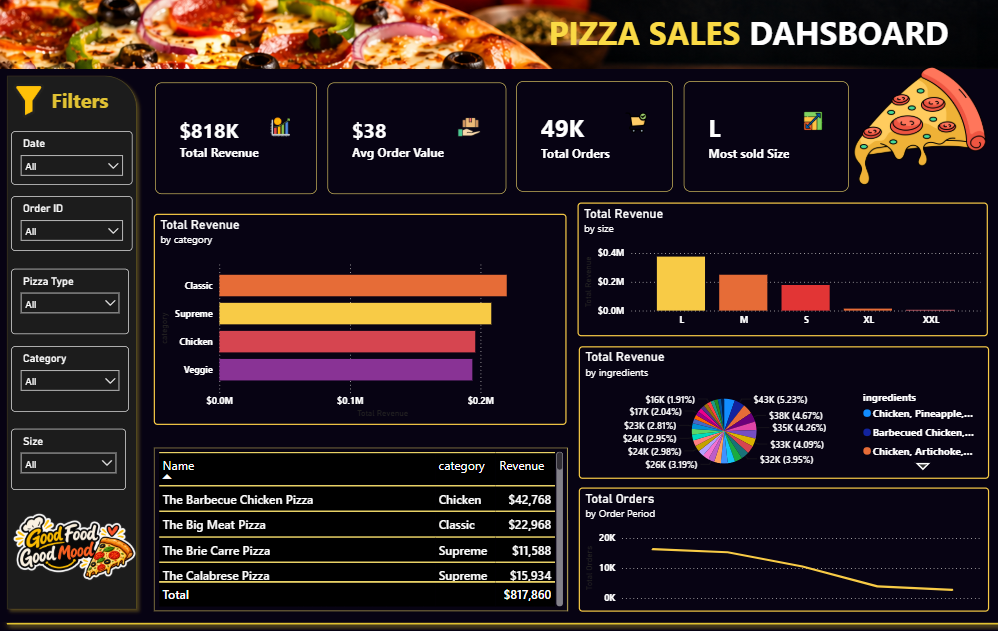

The page's visual inventory and layout, read from the dashboard file:
{"tool":"powerbi","page":{"name":"Page 1","canvas":[1330,850],"ordinal":0},"visuals":[{"type":"image","box":[0,0,1450,92],"z":0},{"type":"textbox","box":[726,8,564,74.4],"z":1000},{"type":"shape","box":[0,91.4,191.4,730],"z":2000},{"type":"image","box":[0,108.6,77.1,52.9],"z":3000},{"type":"textbox","box":[62.9,110,108.6,52.9],"z":4000},{"type":"slicer","fields":{"Values":["orders.date"]},"box":[14.3,174.3,161.4,71.4],"z":5000},{"type":"slicer","fields":{"Values":["order_details.order_id"]},"box":[14.3,261.4,161.4,72.9],"z":6000},{"type":"slicer","fields":{"Values":["pizzas.pizza_id"]},"box":[14.3,358.6,157.1,87.1],"z":7000},{"type":"slicer","fields":{"Values":["pizza_types.category"]},"box":[14.3,461.4,157.1,87.1],"z":8000},{"type":"slicer","fields":{"Values":["pizzas.size"]},"box":[14.3,571.4,152.9,81.4],"z":9000},{"type":"image","box":[0,624.3,191.4,205.7],"z":10000},{"type":"shape","box":[0,821.4,1418,18],"z":11000},{"type":"cardVisual","fields":{"Data":["order_details.Total Revenue"]},"box":[207.1,110,215.7,148.6],"z":12000},{"type":"clusteredBarChart","fields":{"Category":["pizza_types.category"],"Y":["order_details.Total Revenue"]},"box":[205.7,285.7,550,281.7],"z":13000},{"type":"columnChart","fields":{"Category":["pizzas.size"],"Y":["order_details.Total Revenue"]},"box":[770,270,547.1,178.6],"z":14000},{"type":"tableEx","fields":{"Values":["pizza_types.name","pizza_types.category","order_details.Total Revenue"]},"box":[205.7,597.1,552,218.3],"z":15000},{"type":"pieChart","fields":{"Category":["pizza_types.ingredients"],"Y":["order_details.Total Revenue"]},"box":[771.4,461.4,547.1,177.1],"z":16000},{"type":"lineChart","fields":{"Y":["order_details.Total Orders"],"Category":["orders.Order Period"]},"box":[771.4,650,547.1,165.7],"z":18000},{"type":"cardVisual","fields":{"Data":["order_details.Average Revenue"]},"box":[437.1,110,238.6,148.6],"z":19000},{"type":"cardVisual","fields":{"Data":["order_details.Total Orders"]},"box":[688.6,108.6,208.6,147.1],"z":20000},{"type":"cardVisual","fields":{"Data":["pizzas.Pizza Size Rank"]},"box":[911.4,108.6,220,147.1],"z":21000},{"type":"image","box":[1135.7,45.7,182.9,245.7],"z":21002}]}

Visuals, with their boxes in screenshot pixels (x1, y1, x2, y2), scaled from the page's 1330x850 canvas onto the 998x631 screenshot:
image: (left=0, top=0, right=997, bottom=68)
textbox: (left=545, top=6, right=968, bottom=61)
shape: (left=0, top=68, right=144, bottom=610)
image: (left=0, top=81, right=58, bottom=120)
textbox: (left=47, top=82, right=129, bottom=121)
slicer - orders.date: (left=11, top=129, right=132, bottom=182)
slicer - order_details.order_id: (left=11, top=194, right=132, bottom=248)
slicer - pizzas.pizza_id: (left=11, top=266, right=129, bottom=331)
slicer - pizza_types.category: (left=11, top=343, right=129, bottom=407)
slicer - pizzas.size: (left=11, top=424, right=125, bottom=485)
image: (left=0, top=463, right=144, bottom=616)
shape: (left=0, top=610, right=997, bottom=623)
cardVisual - order_details.Total Revenue: (left=155, top=82, right=317, bottom=192)
clusteredBarChart - pizza_types.category x order_details.Total Revenue: (left=154, top=212, right=567, bottom=421)
columnChart - pizzas.size x order_details.Total Revenue: (left=578, top=200, right=988, bottom=333)
tableEx - pizza_types.name x pizza_types.category: (left=154, top=443, right=569, bottom=605)
pieChart - pizza_types.ingredients x order_details.Total Revenue: (left=579, top=343, right=989, bottom=474)
lineChart - order_details.Total Orders x orders.Order Period: (left=579, top=483, right=989, bottom=606)
cardVisual - order_details.Average Revenue: (left=328, top=82, right=507, bottom=192)
cardVisual - order_details.Total Orders: (left=517, top=81, right=673, bottom=190)
cardVisual - pizzas.Pizza Size Rank: (left=684, top=81, right=849, bottom=190)
image: (left=852, top=34, right=989, bottom=216)
